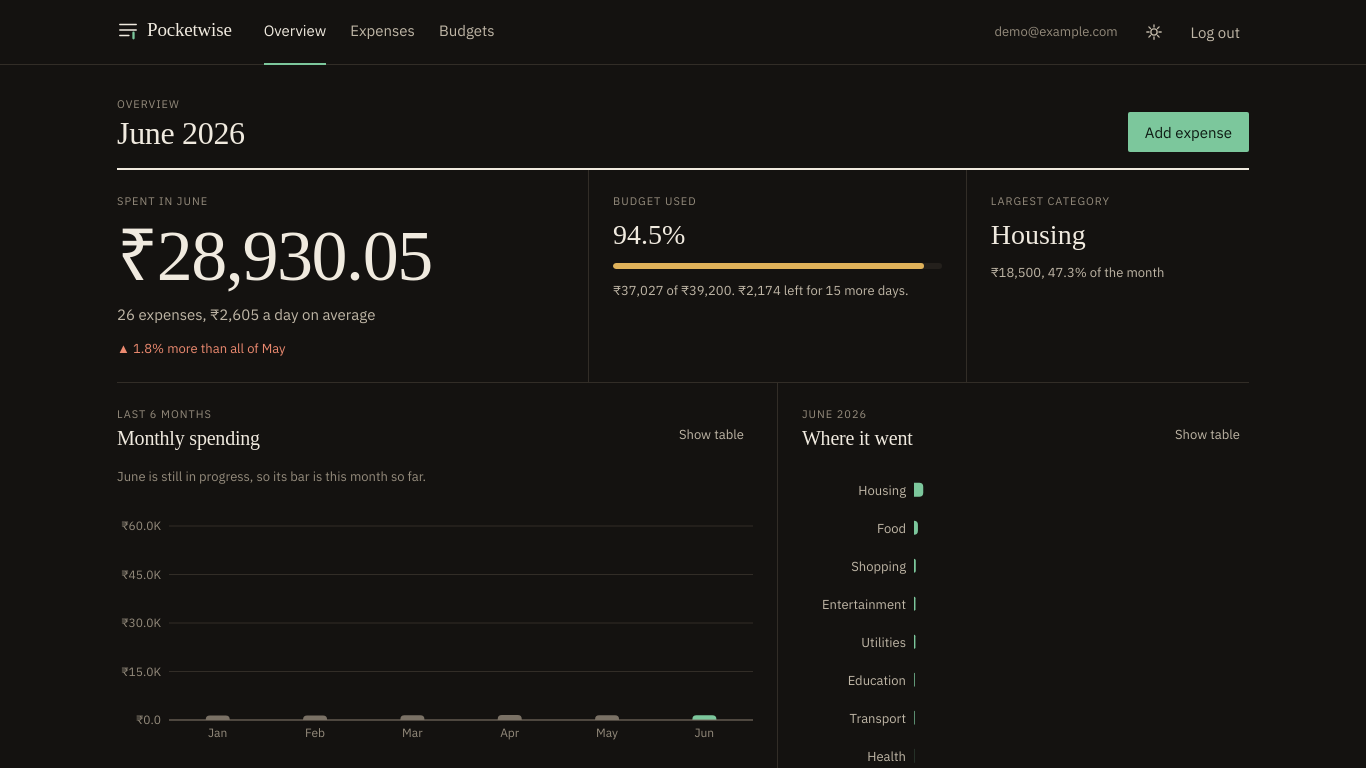
it: automatic logout › logs out and explains why when the API rejects the token
Expected: the button "Log out" is shown, top-left (1182, 12), bottom-right (1249, 52)
Click the link "Expenses" at (383, 31), box top-left (350, 21), bottom-right (415, 40)
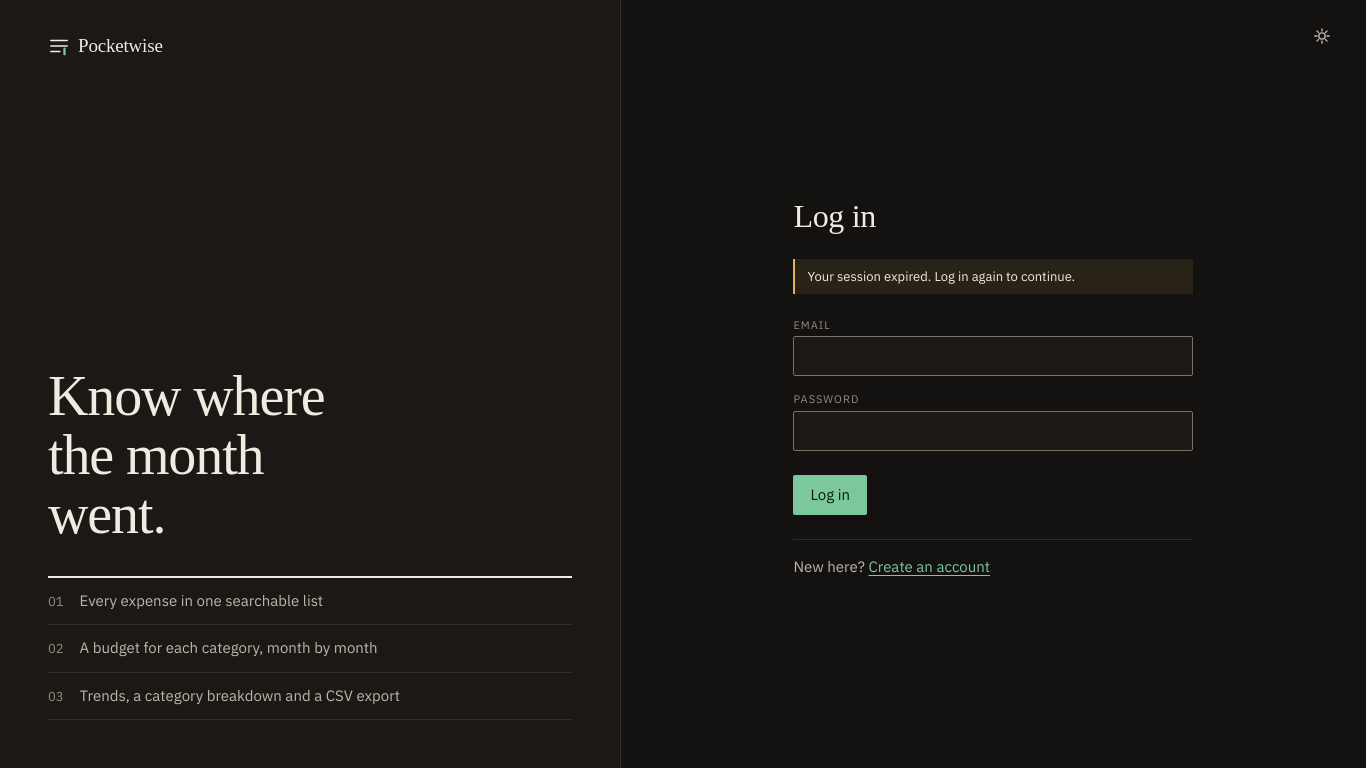
Expected: the heading "Log in" is shown, top-left (793, 198), bottom-right (876, 234)
Expected: the text "Your session expired. Log in again to continue." is shown, top-left (793, 259), bottom-right (1193, 294)
